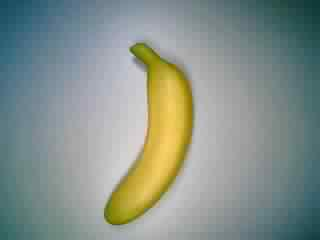banana: (99, 37, 201, 227)
